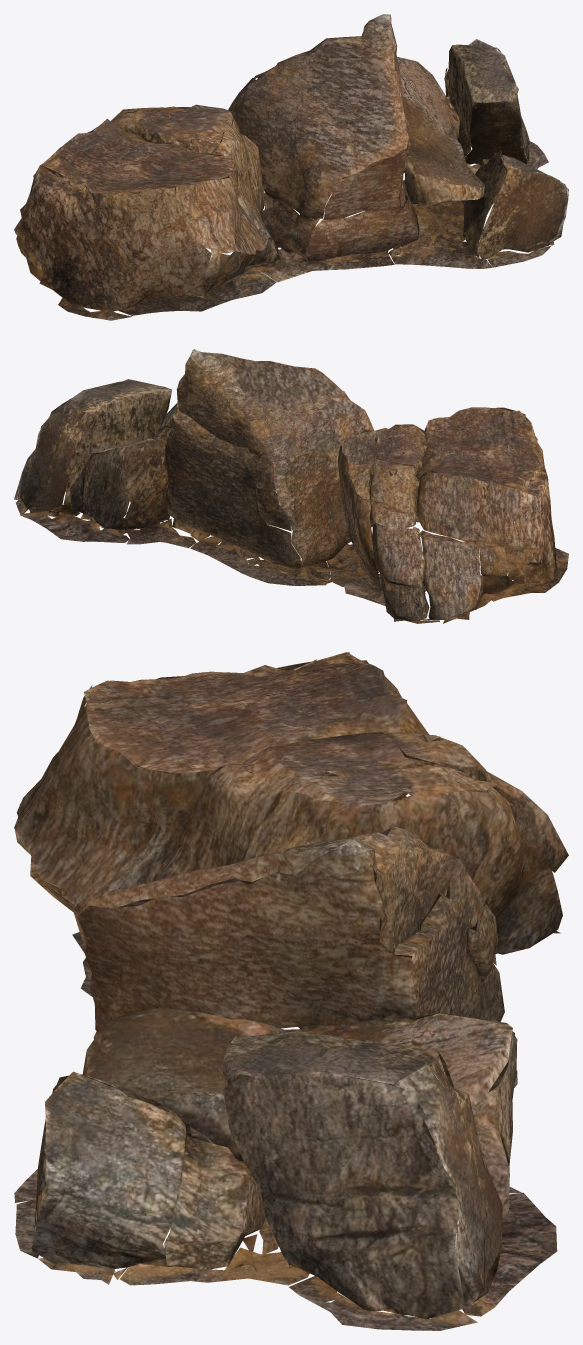
Rendered from namaqualand_boulder_02.glb.
The picture shows the model from 3 angles, top to bottom: view 1: azimuth 30°, elevation 25°; view 2: azimuth 150°, elevation 25°; view 3: azimuth 270°, elevation 25°; orthographic projection. The views are drawn at different scales.
Visible parts, largest first — view 1: lod0; view 2: lod0; view 3: lod0.
Boxes of the visible parts, x1,y1,x2,y2 form: lod0: (14, 14, 568, 320); lod0: (14, 349, 568, 623); lod0: (14, 652, 568, 1330).
Size of what is drawn, in the model's own units: 2.52 by 0.8766 by 1.24.
1 material, 1 textured.
